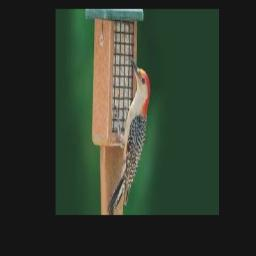Woodpecker: (108, 56, 150, 213)
